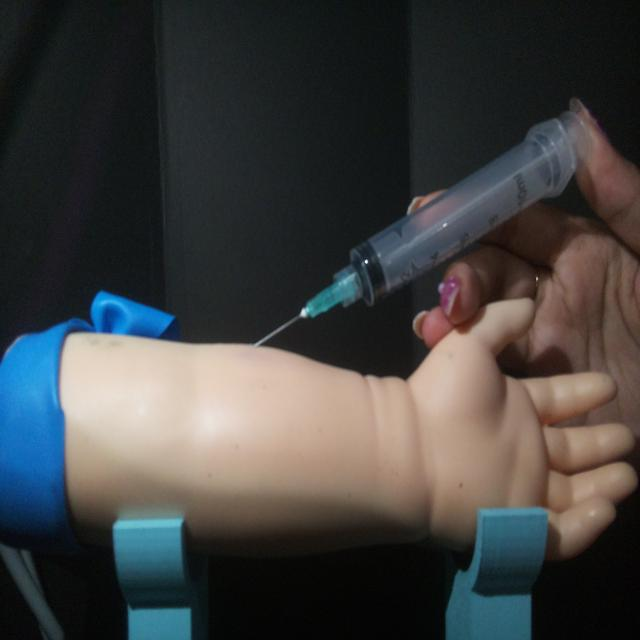29deg: (248, 100, 596, 352)
